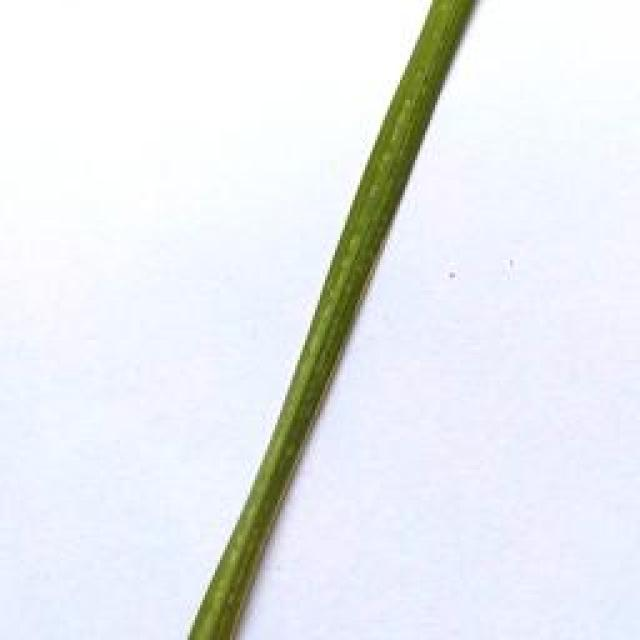Healthy-Plant: (192, 4, 477, 638)
